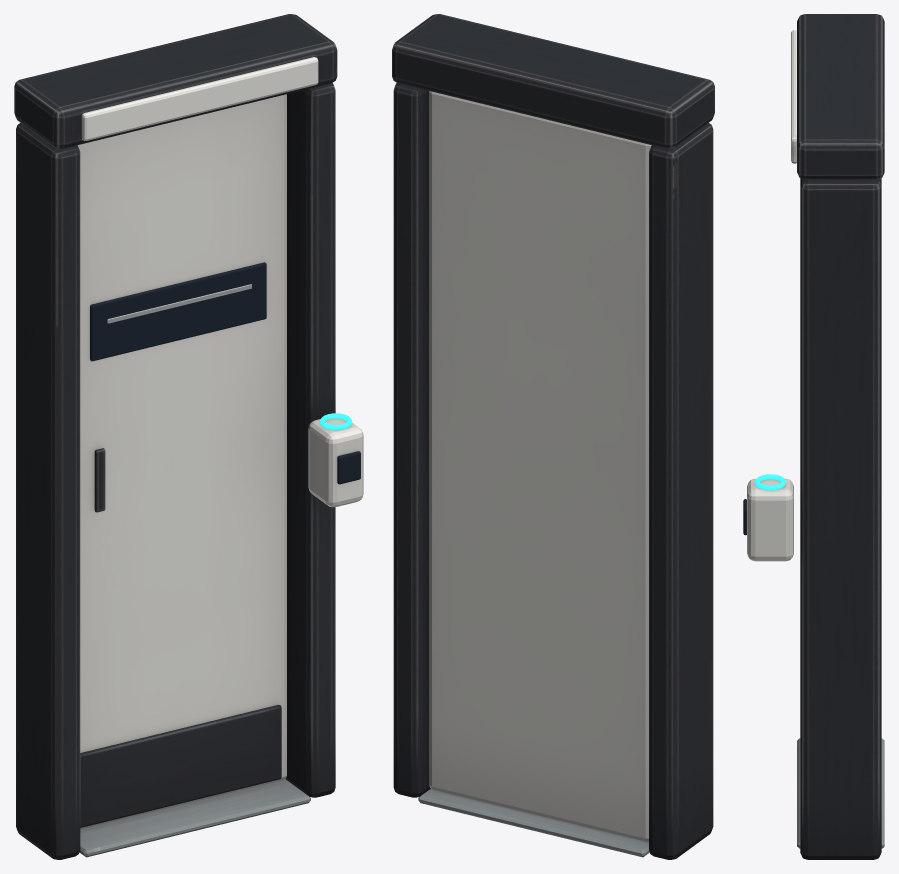
The model's file is net_door.glb.
3 views of the same model, side by side, from view 1: azimuth 30°, elevation 25°; view 2: azimuth 150°, elevation 25°; view 3: azimuth 270°, elevation 25° (orthographic). The views are drawn at different scales.
Visible parts, largest first — view 1: door_slide_mesh, net_door_mesh; view 2: door_slide_mesh, net_door_mesh; view 3: net_door_mesh.
Boxes of the visible parts, x1,y1,x2,y2 form: door_slide_mesh: [77, 94, 286, 829]; net_door_mesh: [14, 14, 363, 859]; door_slide_mesh: [429, 91, 651, 841]; net_door_mesh: [392, 14, 714, 859]; net_door_mesh: [743, 14, 884, 859].
Bounding box in the file's own units: 1 × 2.54 × 0.452.
Materials: 3 (1 with a texture image).
